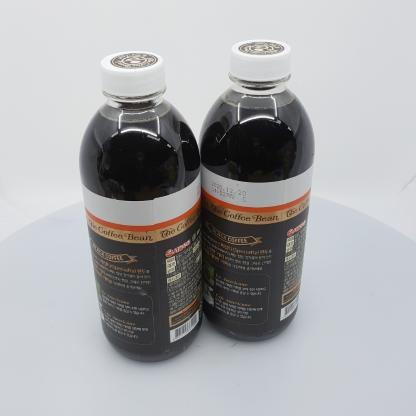--------: (80, 51, 202, 363), (198, 39, 315, 341)
